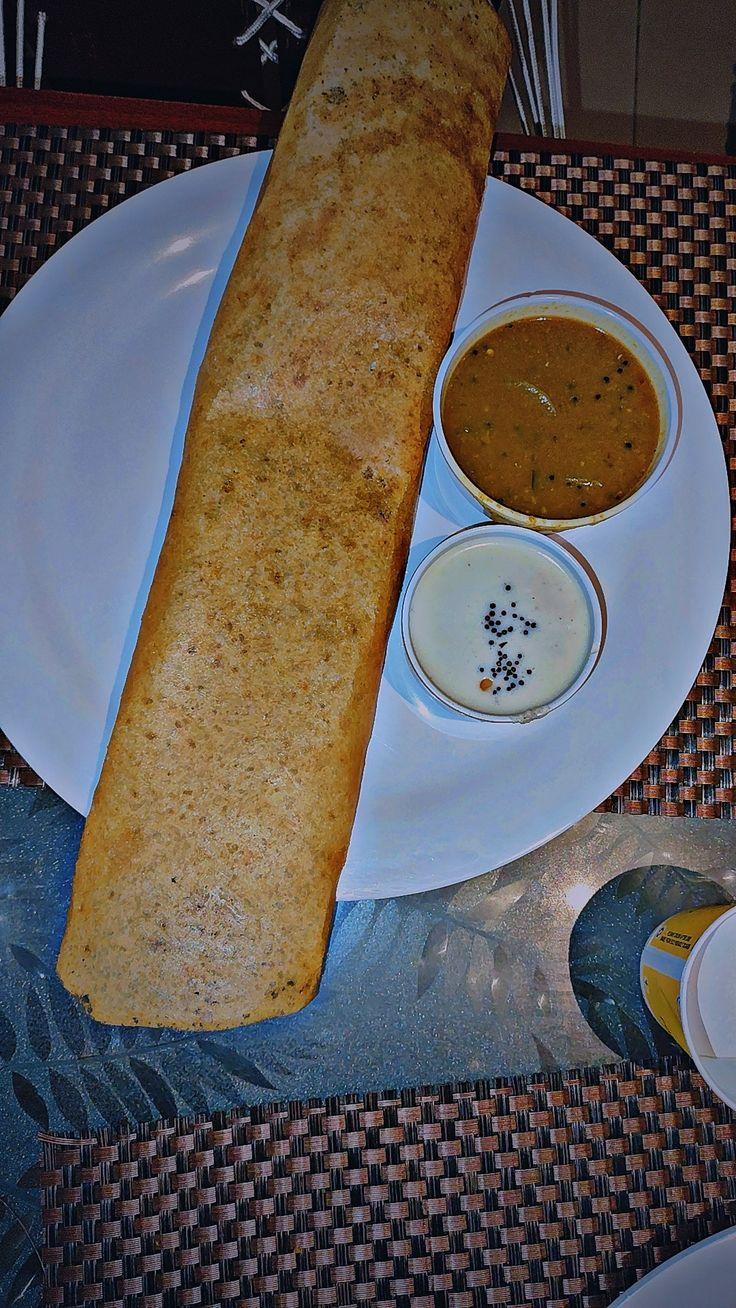dosa: (108, 12, 445, 1022)
